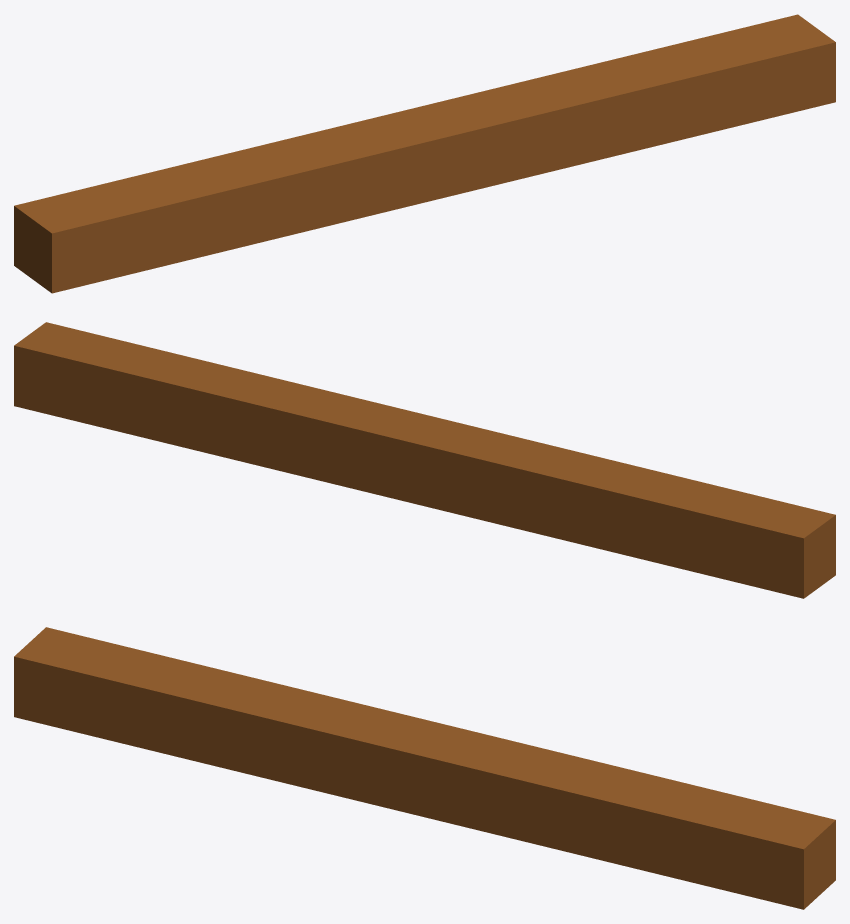
File: RE Tiles 1.fbx
3 renders of one model, top to bottom at view 1: azimuth 30°, elevation 25°; view 2: azimuth 150°, elevation 25°; view 3: azimuth 330°, elevation 25°, orthographic.
Visible parts, largest first — view 1: RE Tiles 1; view 2: RE Tiles 1; view 3: RE Tiles 1.
Boxes of the visible parts, <box> form: RE Tiles 1: <box>14,14,835,293</box>; RE Tiles 1: <box>14,322,835,598</box>; RE Tiles 1: <box>14,627,835,909</box>.
Bounding box in the file's own units: 371 × 28.34 × 28.5.
Materials: 1 (1 with a texture image).
